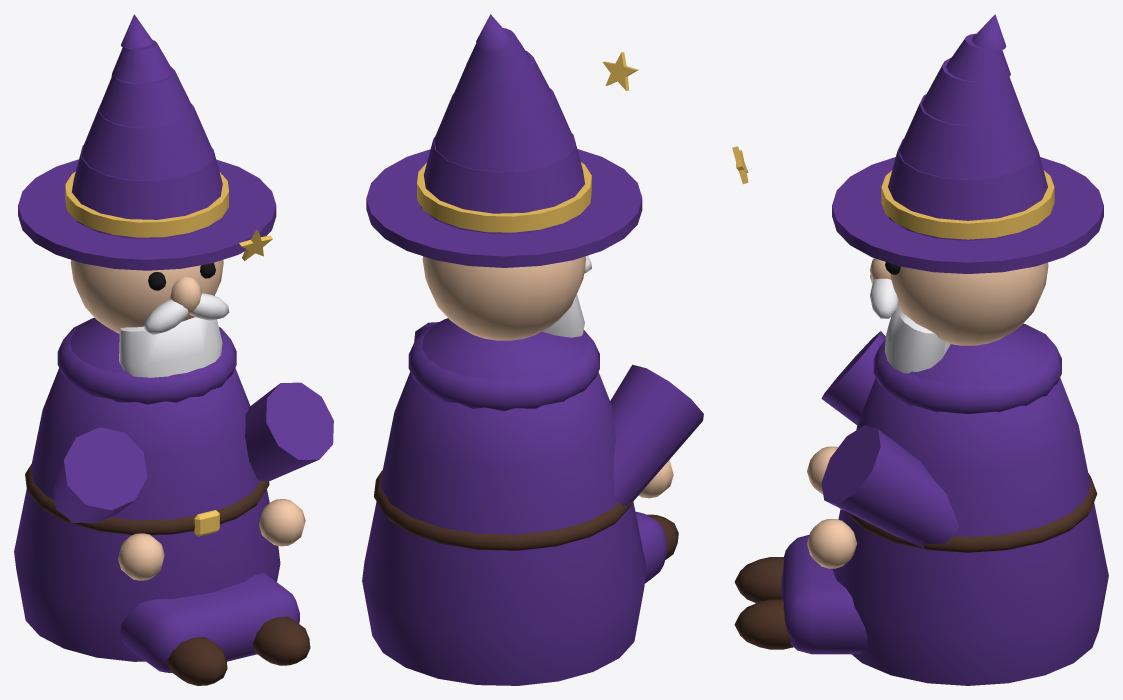
The model's file is magic_wizard_violet.glb.
3 renders of one model, left to right at view 1: azimuth 30°, elevation 25°; view 2: azimuth 150°, elevation 25°; view 3: azimuth 270°, elevation 25°, orthographic. The views are drawn at different scales.
Visible parts, largest first — view 1: magic_wizard_violet; view 2: magic_wizard_violet; view 3: magic_wizard_violet.
Part boxes in pixels (x1=…): magic_wizard_violet: x1=14, y1=14, x2=333, y2=685; magic_wizard_violet: x1=362, y1=14, x2=703, y2=685; magic_wizard_violet: x1=732, y1=14, x2=1108, y2=685.
Bounding box in the file's own units: 0.6432 × 1.35 × 0.7487.
